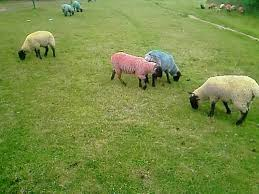sheep: (188, 74, 259, 126), (110, 54, 162, 91), (17, 31, 57, 65), (146, 49, 181, 86), (232, 4, 248, 19), (61, 4, 75, 20), (211, 3, 230, 13), (73, 1, 86, 13), (197, 1, 207, 9)
